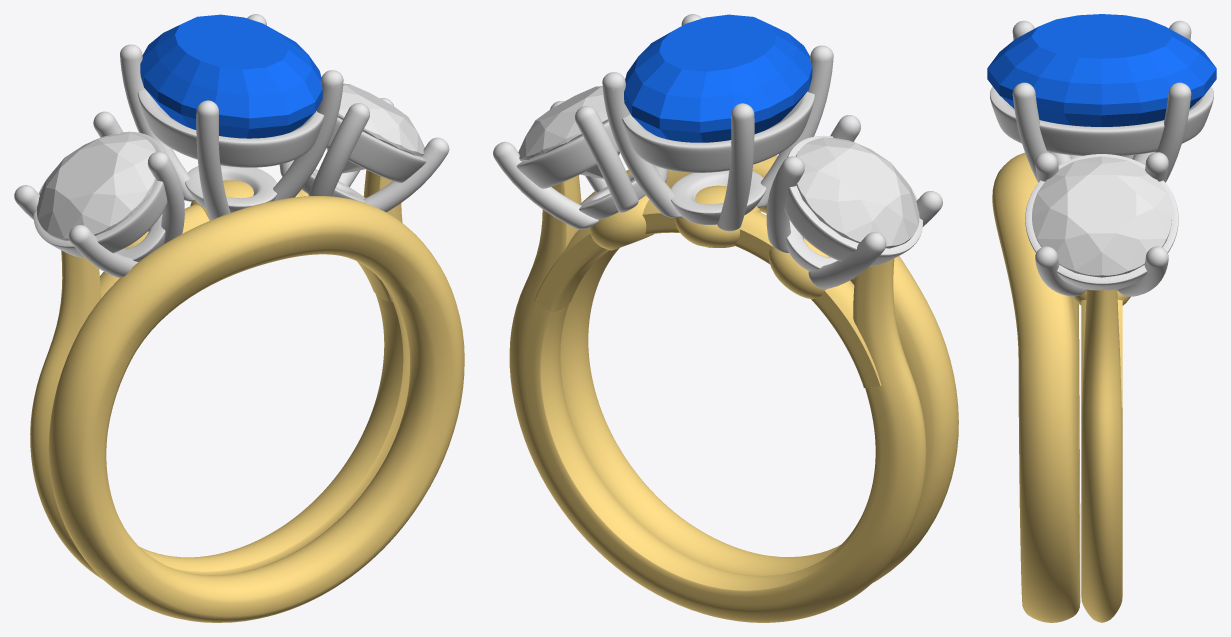
File: AbiBOTHygpt_blender.glb
3 renders of one model, left to right at view 1: azimuth 30°, elevation 25°; view 2: azimuth 150°, elevation 25°; view 3: azimuth 270°, elevation 25°, orthographic. The views are drawn at different scales.
Parts seen in each view (by area): view 1: Abi YG both for 3d model, Abi PT both for 3d model, Abi sapph both for 3d model, Abi dia both for 3d model, Abi dia both for 3d model.001; view 2: Abi YG both for 3d model, Abi PT both for 3d model, Abi sapph both for 3d model, Abi dia both for 3d model, Abi dia both for 3d model.001; view 3: Abi YG both for 3d model, Abi sapph both for 3d model, Abi PT both for 3d model, Abi dia both for 3d model.001.
Boxes of the visible parts, bbox=[...] form: Abi YG both for 3d model: bbox=[30, 170, 464, 622]; Abi PT both for 3d model: bbox=[14, 14, 449, 278]; Abi sapph both for 3d model: bbox=[140, 14, 322, 138]; Abi dia both for 3d model: bbox=[37, 133, 156, 240]; Abi dia both for 3d model.001: bbox=[326, 83, 424, 173]; Abi YG both for 3d model: bbox=[509, 155, 958, 622]; Abi PT both for 3d model: bbox=[493, 14, 942, 289]; Abi sapph both for 3d model: bbox=[624, 14, 812, 142]; Abi dia both for 3d model: bbox=[796, 137, 919, 248]; Abi dia both for 3d model.001: bbox=[518, 86, 619, 178]; Abi YG both for 3d model: bbox=[992, 152, 1130, 622]; Abi sapph both for 3d model: bbox=[987, 14, 1216, 126]; Abi PT both for 3d model: bbox=[990, 20, 1213, 296]; Abi dia both for 3d model.001: bbox=[1032, 156, 1171, 277].
Size of the model in its own units: 20.81 by 27.1 by 10.
